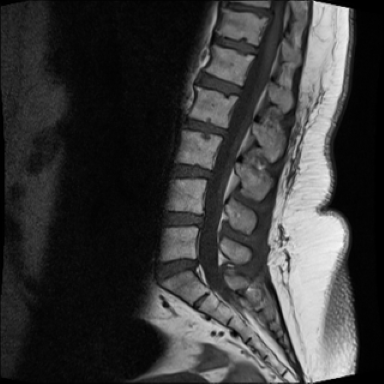Lumbar Disc Bulge (LDB): (149, 249, 220, 287), (159, 158, 227, 189), (151, 201, 212, 233), (172, 115, 239, 141)
Normal IVD: (194, 68, 245, 97)
Spondylolisthesis: (151, 246, 206, 290)
Thoracic Disc Bulge (TDB): (207, 29, 261, 58), (220, 2, 274, 16)
